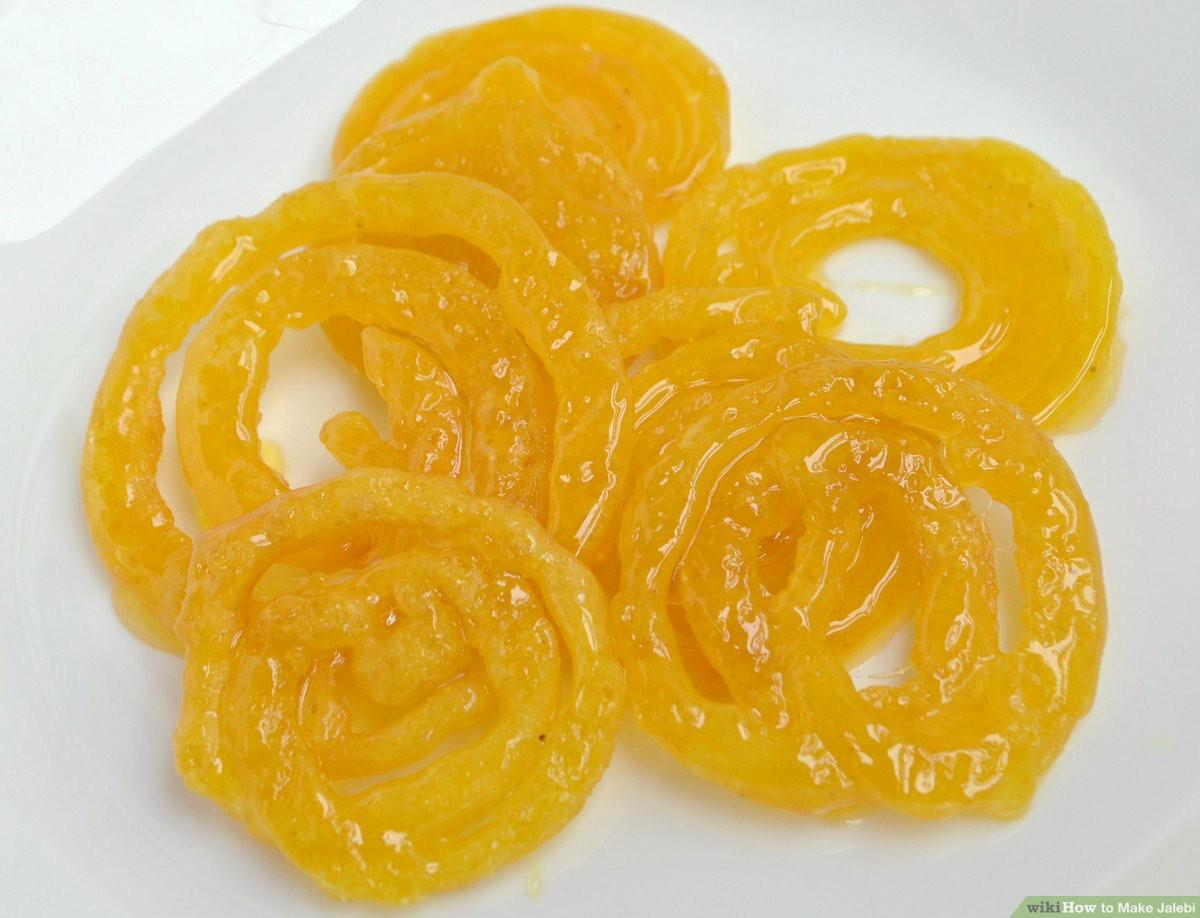Jalebi: (85, 4, 1121, 908)
